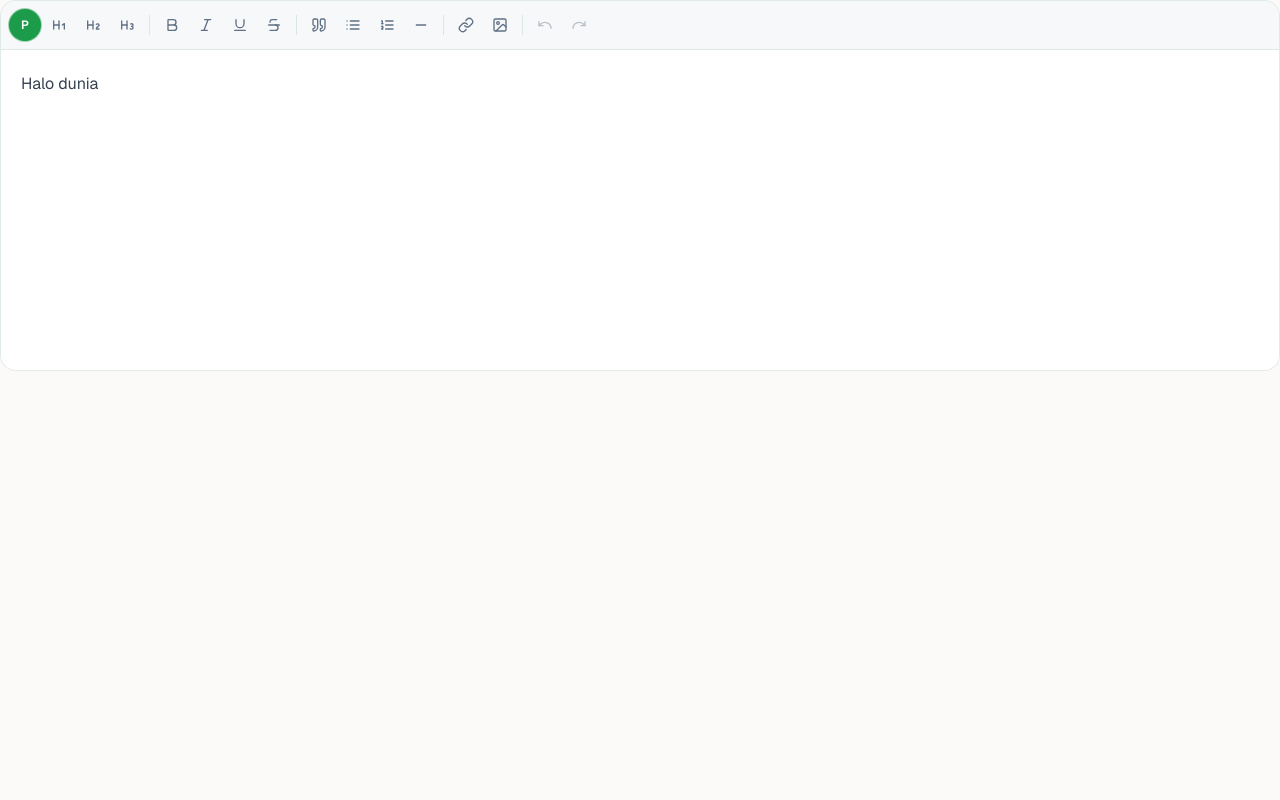
Test: RichTextEditor Component › allows cancelling link dialog without modifying link
Click the button named "Sisipkan Tautan" at (466, 25), box [450,9,482,41]
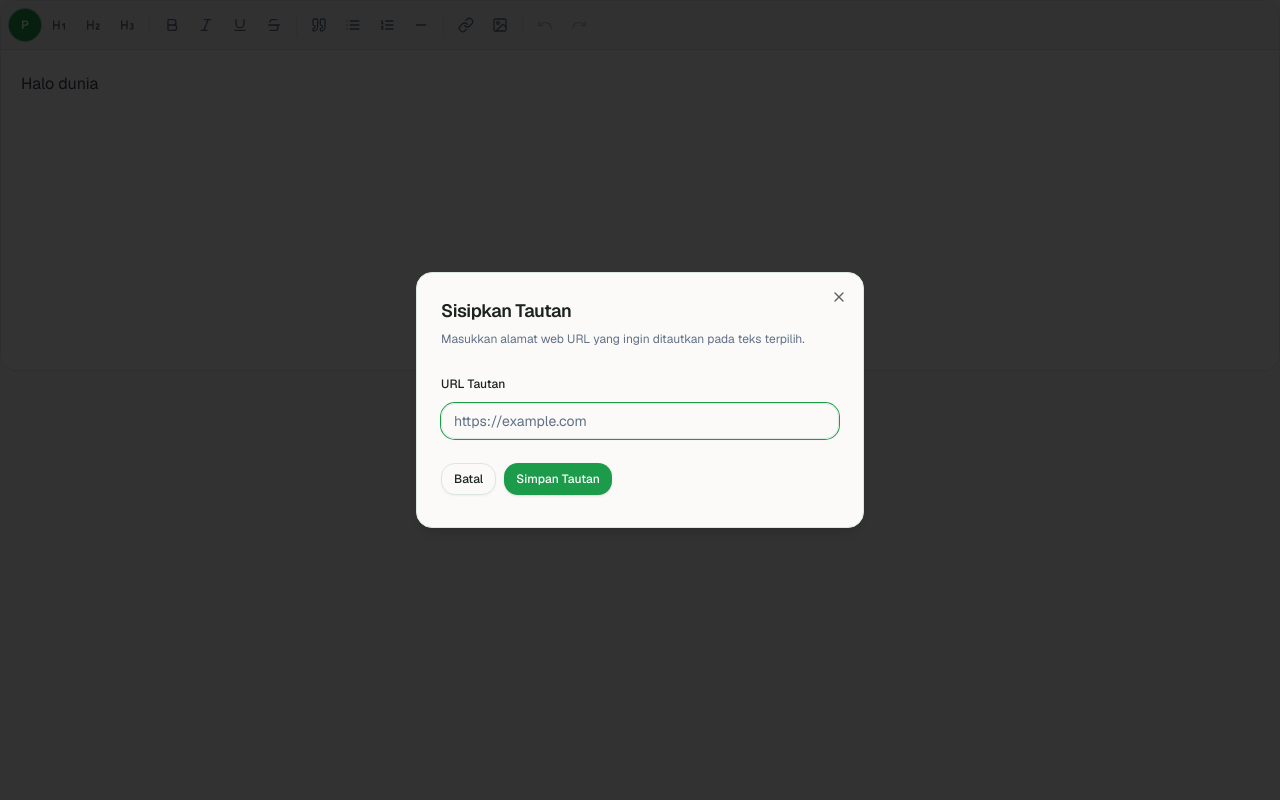
Expected: the heading "Sisipkan Tautan" is shown, [441,299,571,322]
Click the button "Batal" at (469, 479), box [441,463,496,495]
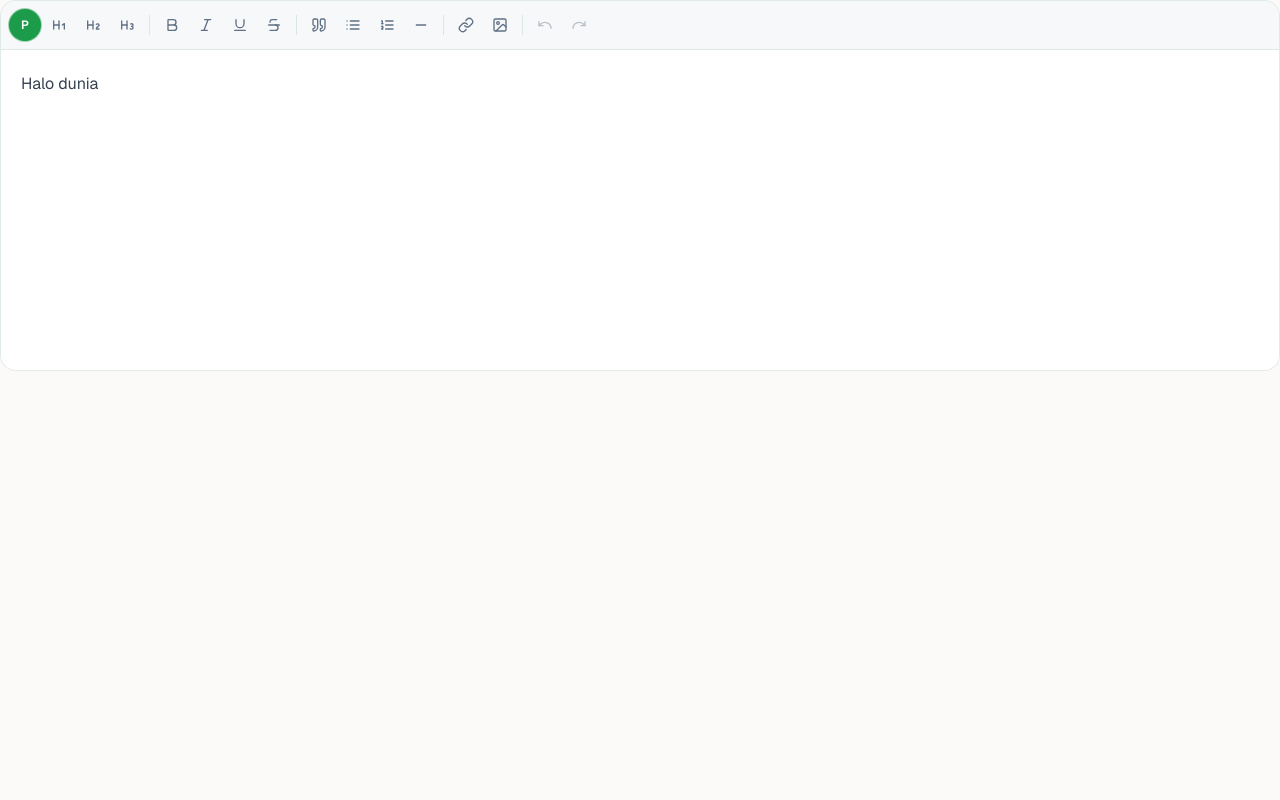
Expected: the heading "Sisipkan Tautan" is gone
